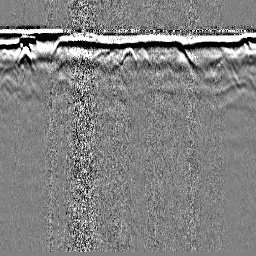cavity: (119, 45, 137, 65)
